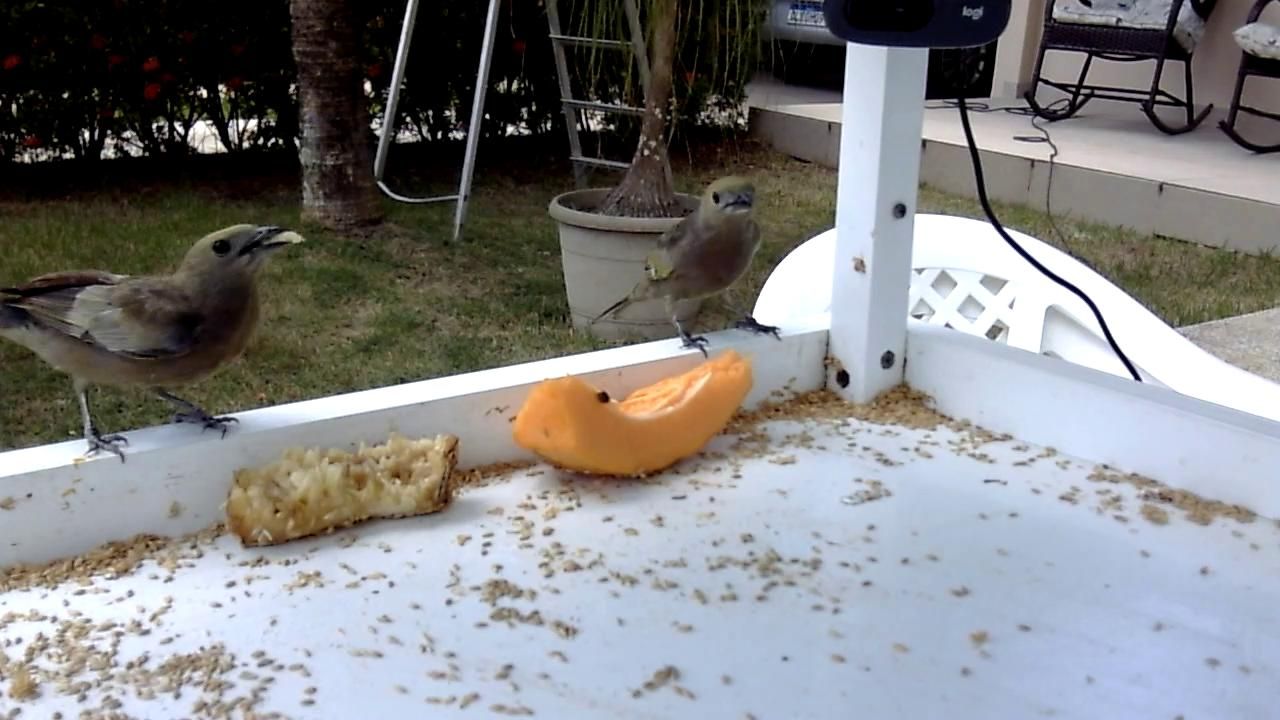sanhaco_do_coqueiro: (1, 222, 303, 468), (591, 174, 785, 364)
